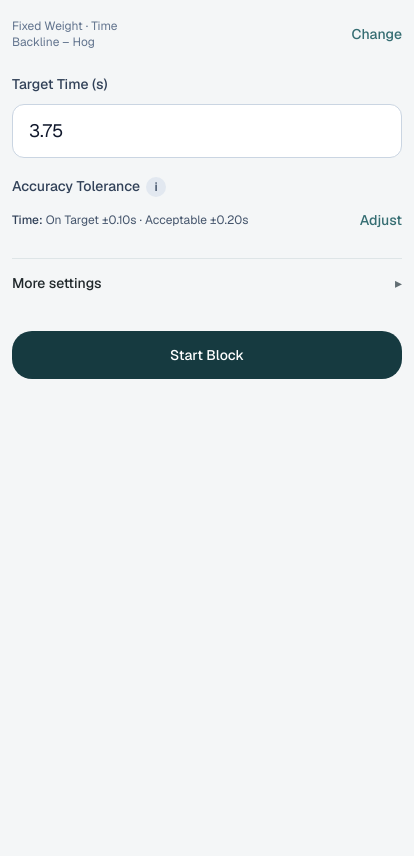
it: TrainingSetup — Smart Random Profiles selector visibility › does not appear for Variable Weight once Coach / Manual is selected
Click the button "Change".
click(377, 34)  # box [352,12,402,56]
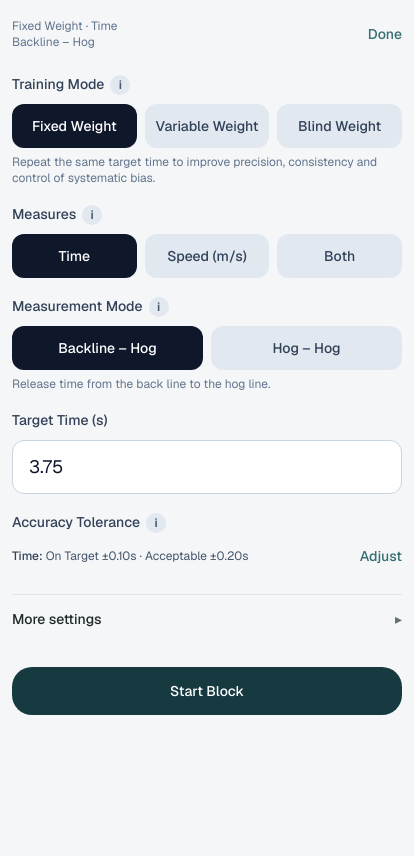
Click the button "Variable Weight".
click(207, 126)  # box [145,104,269,148]
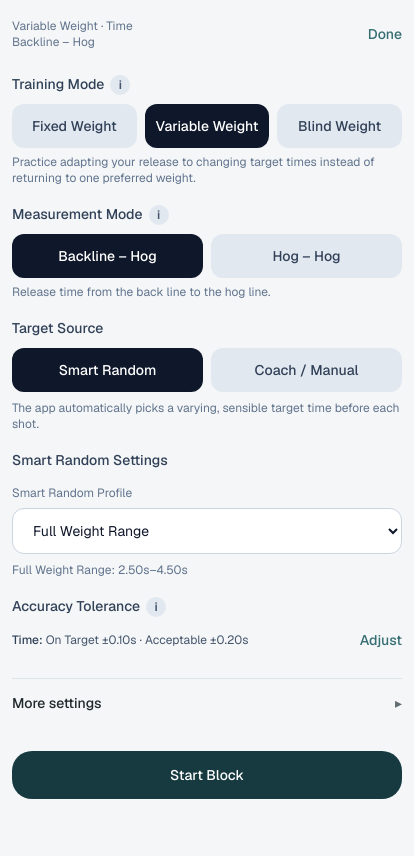
Click the button "Coach / Manual".
click(306, 370)  # box [211,348,402,392]
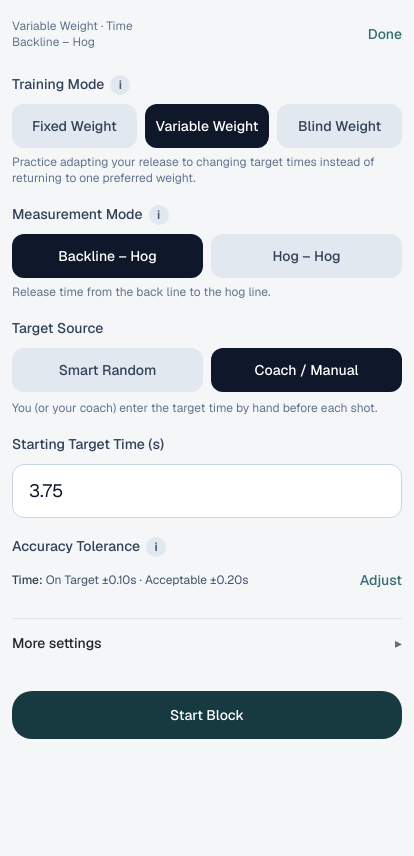
Expected: the text "Smart Random Settings" is gone
